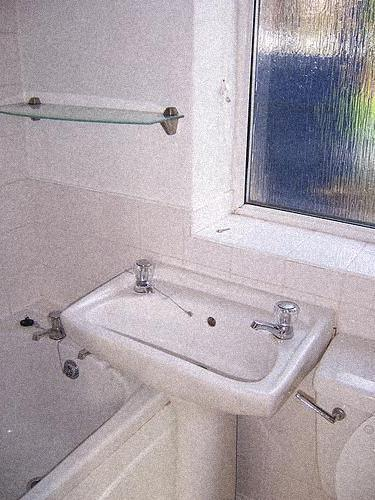Lavamanos: (62, 258, 334, 420)
